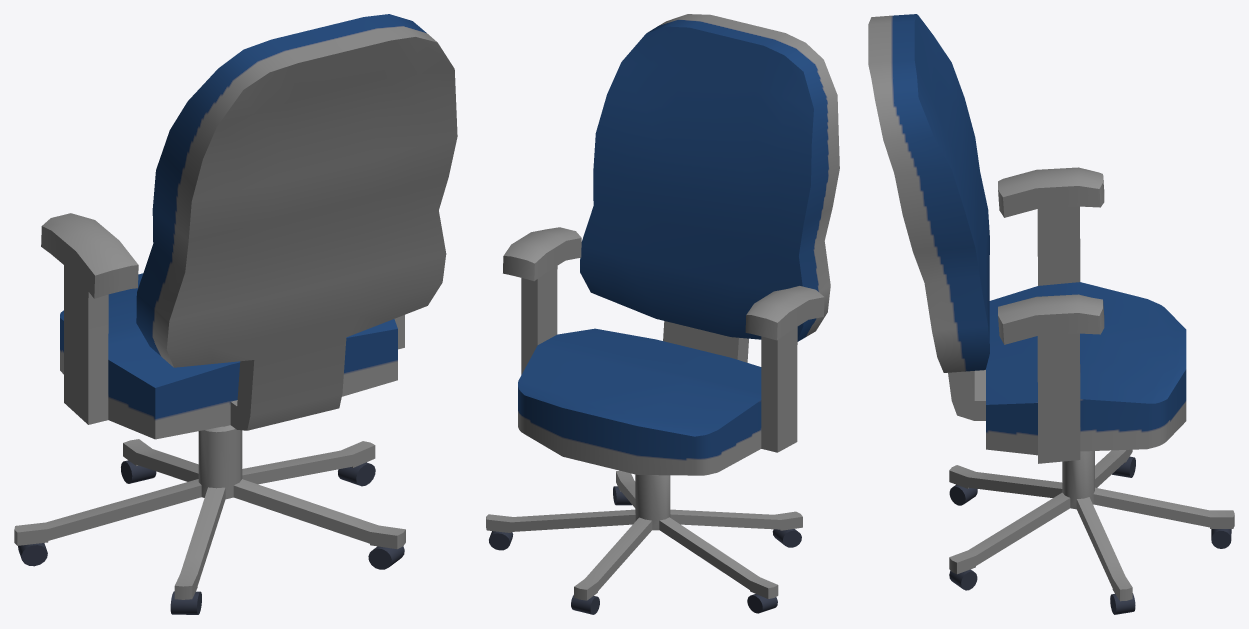
Rendered from ReceptionDesk_Chair.glb.
3 renders of one model, left to right at view 1: azimuth 30°, elevation 25°; view 2: azimuth 150°, elevation 25°; view 3: azimuth 270°, elevation 25°, orthographic. The views are drawn at different scales.
Visible parts, largest first — view 1: Chair_low; view 2: Chair_low; view 3: Chair_low.
Part boxes in pixels (x1,y1,x2,y2): Chair_low: (14, 14, 457, 614); Chair_low: (486, 14, 839, 614); Chair_low: (868, 14, 1234, 614).
Size of the model in its own units: 0.9705 by 1.5 by 0.9923.
1 material, 1 textured.
